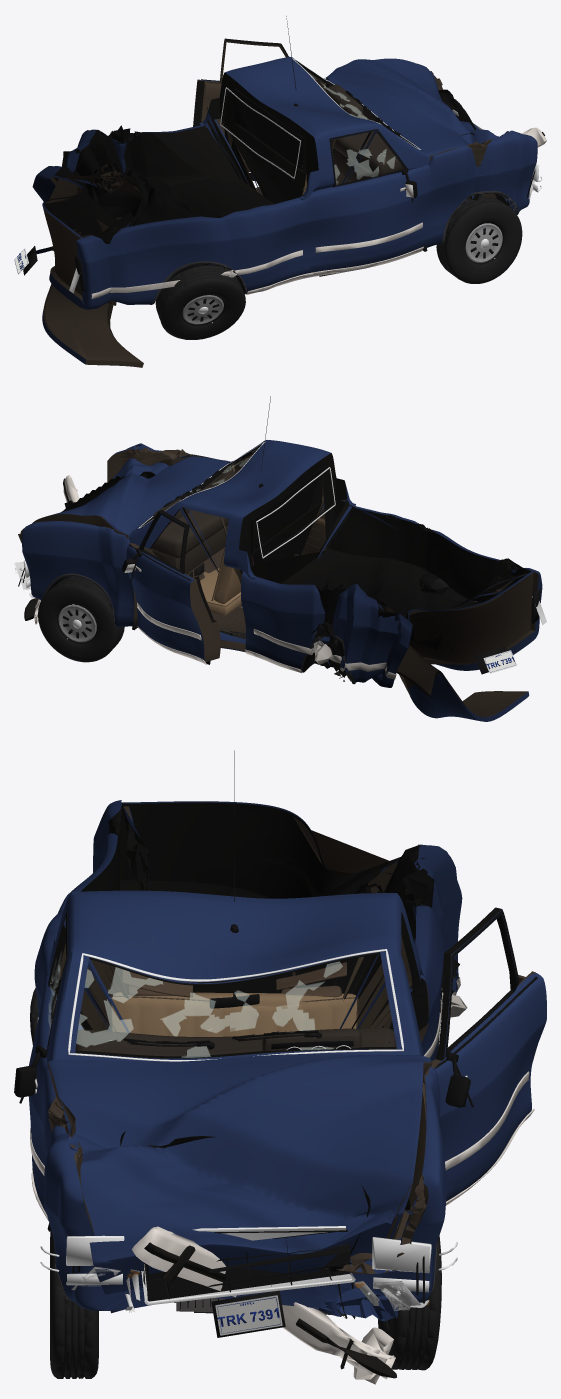
The model's file is pickup87_rear_corner_d3_lod1.glb.
The picture shows the model from 3 angles, top to bottom: view 1: azimuth 30°, elevation 25°; view 2: azimuth 150°, elevation 25°; view 3: azimuth 270°, elevation 25°; orthographic projection. The views are drawn at different scales.
Visible parts, largest first — view 1: Body, Hood, Wheel_FR_mesh, Wheel_RR_mesh, Tailgate, Door_FR, Interior, Trim, Trim_FR, Door_FL, Glass, Ends (+1 smaller); view 2: Body, Door_FL, Hood, Wheel_FL_mesh, Interior, Tailgate, Trim, Ends, Trim_FL, Glass, Bumper_F, Door_FR; view 3: Body, Hood, Interior, Ends, Door_FL, Glass, Bumper_F, Wheel_FR_mesh, Wheel_FL_mesh, Trim_FL, Trim, Door_FR (+1 smaller).
Boxes of the visible parts, x1,y1,x2,y2 form: Body: [32, 56, 537, 309]; Hood: [325, 58, 499, 197]; Wheel_FR_mesh: [436, 196, 522, 283]; Wheel_RR_mesh: [155, 265, 245, 339]; Tailgate: [36, 217, 143, 367]; Door_FR: [312, 133, 426, 269]; Interior: [302, 84, 401, 195]; Trim: [91, 16, 518, 304]; Trim_FR: [312, 129, 423, 276]; Door_FL: [193, 38, 288, 171]; Glass: [220, 58, 420, 178]; Ends: [14, 109, 542, 293]; Body: [18, 440, 542, 687]; Door_FL: [126, 510, 220, 662]; Hood: [32, 456, 230, 539]; Wheel_FL_mesh: [38, 576, 124, 662]; Interior: [148, 471, 241, 615]; Tailgate: [396, 645, 529, 721]; Trim: [41, 396, 476, 684]; Ends: [15, 560, 546, 674]; Trim_FL: [121, 511, 210, 664]; Glass: [138, 441, 335, 558]; Bumper_F: [24, 475, 79, 624]; Door_FR: [296, 488, 344, 555]; Body: [29, 800, 462, 1321]; Hood: [48, 1054, 432, 1313]; Interior: [75, 962, 395, 1056]; Ends: [40, 1226, 457, 1337]; Door_FL: [431, 907, 546, 1201]; Glass: [68, 949, 403, 1061]; Bumper_F: [132, 1226, 396, 1384]; Wheel_FR_mesh: [50, 1229, 98, 1378]; Wheel_FL_mesh: [378, 1209, 441, 1370]; Trim_FL: [434, 910, 537, 1205]; Trim: [37, 750, 467, 1303]; Door_FR: [29, 911, 67, 1211].
Bounding box in the file's own units: 4.98 × 2.76 × 2.56.
Materials: 33 (5 with a texture image).
